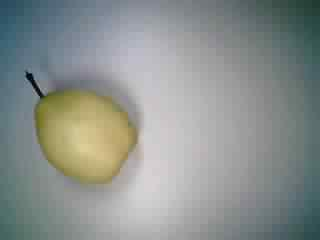pear: (14, 63, 145, 192)
